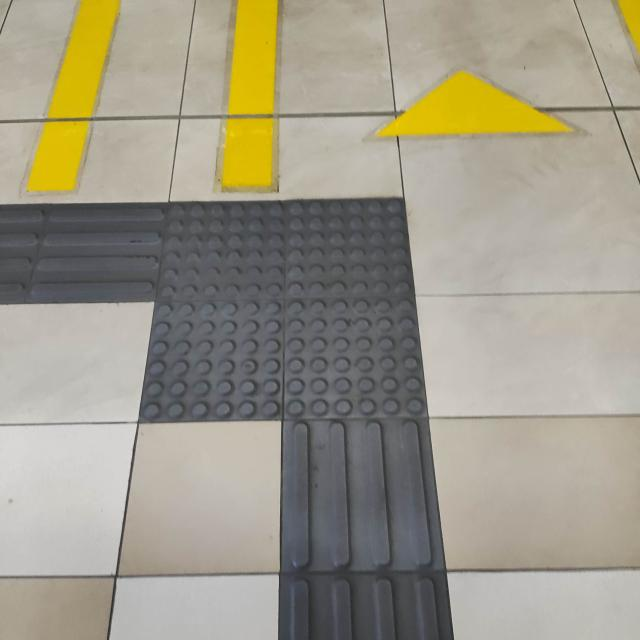kiri: (4, 124, 487, 527)
